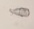microplastic: (9, 7, 30, 18)
